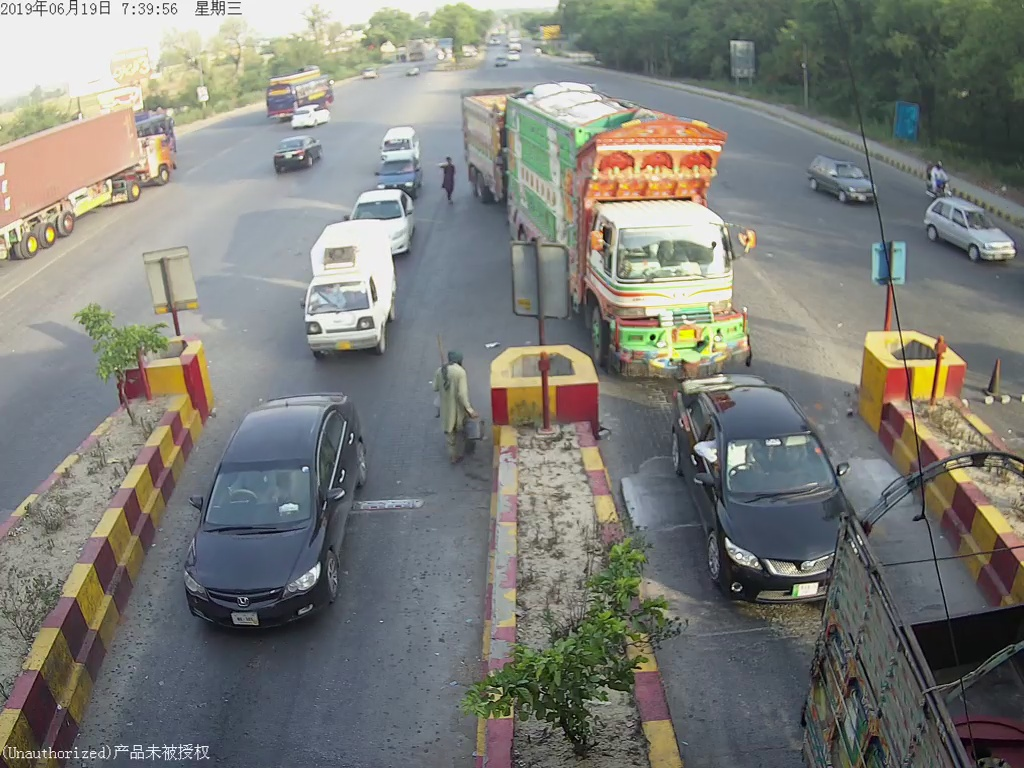Cat-1: (181, 393, 370, 644), (667, 381, 836, 593), (299, 220, 404, 373)
Cat-4: (504, 85, 761, 381)
